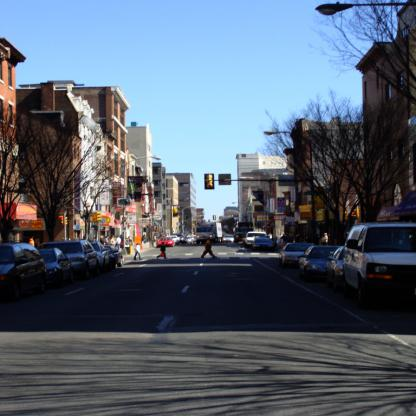Car: (152, 223, 416, 303), (0, 239, 124, 311)
